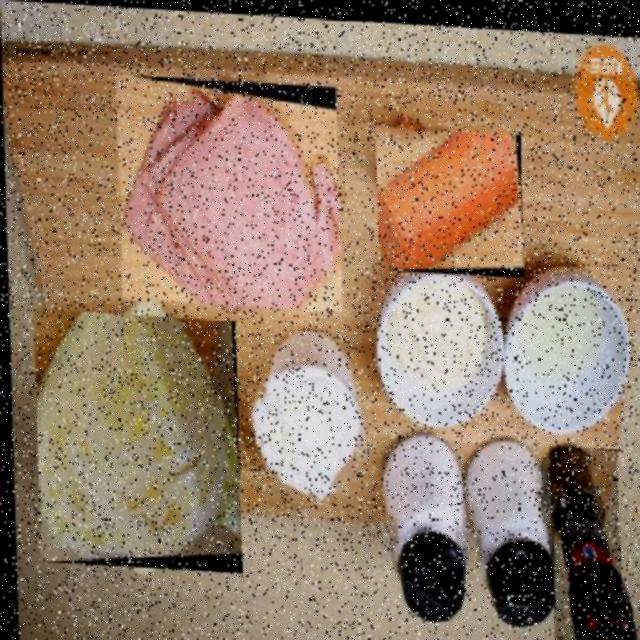Cabbage: (32, 308, 240, 570)
Carrot: (374, 120, 524, 272)
Ham: (116, 72, 342, 308)
